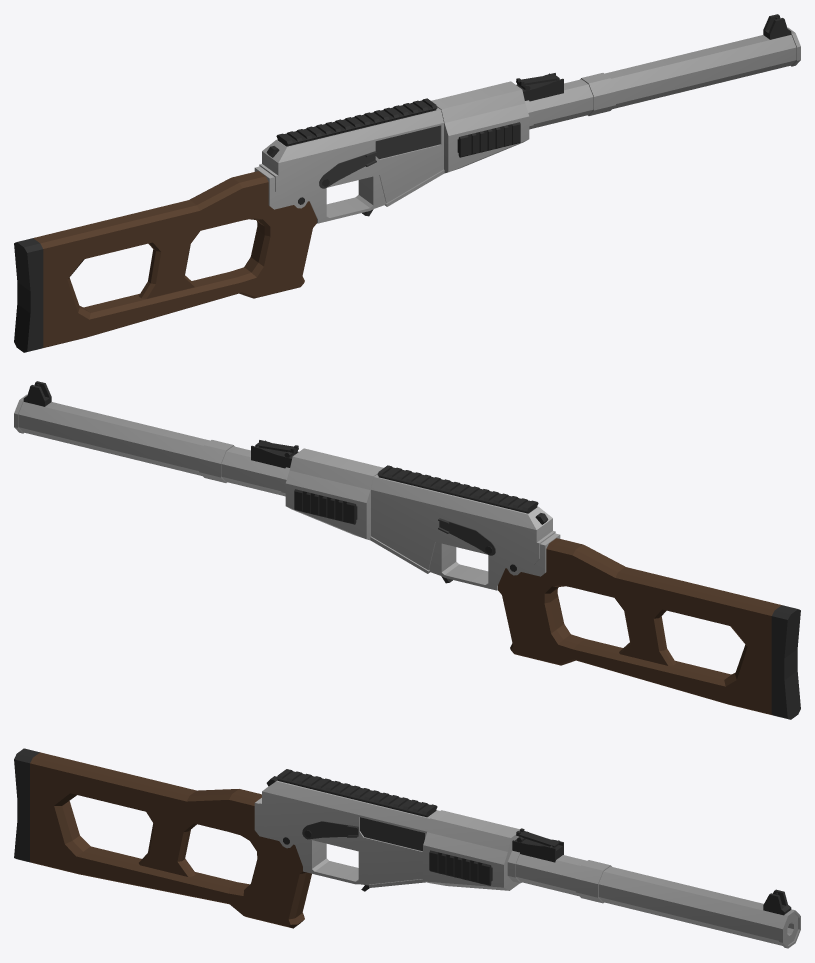
Rendered from SniperRifle6_05.fbx.
3 views of the same model, one above another, from view 1: azimuth 30°, elevation 25°; view 2: azimuth 150°, elevation 25°; view 3: azimuth 330°, elevation 25° (orthographic).
Visible parts, largest first — view 1: SniperRifle6_05; view 2: SniperRifle6_05; view 3: SniperRifle6_05.
Part boxes in pixels (<box>): SniperRifle6_05: <box>14,14,800,352</box>; SniperRifle6_05: <box>14,381,800,719</box>; SniperRifle6_05: <box>14,748,800,948</box>.
Size of the model in its own units: 0.9508 by 0.1767 by 0.0662.
